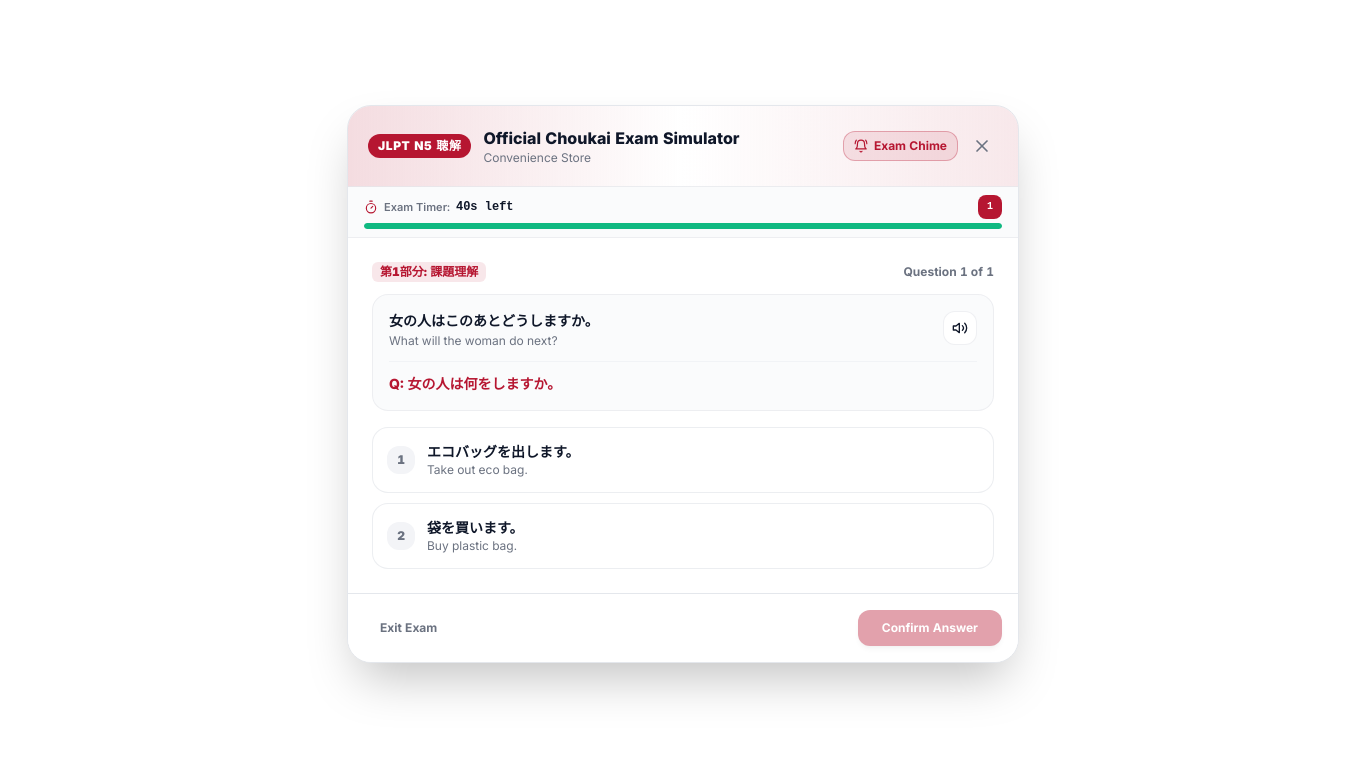
Scenario: Listening Components › ChoukaiExamModal renders questions, selection, and submission review
Expected: the text "JLPT N5 聴解" is shown, left=368, top=134, right=472, bottom=158
Expected: the text "第1部分: 課題理解" is shown, left=372, top=262, right=486, bottom=282
Note: Select option 1
What coordinates should you click on to do the following:
click the text "エコバッグを出します。"
I would click on:
 (503, 452)
Its box is left=427, top=442, right=580, bottom=462.
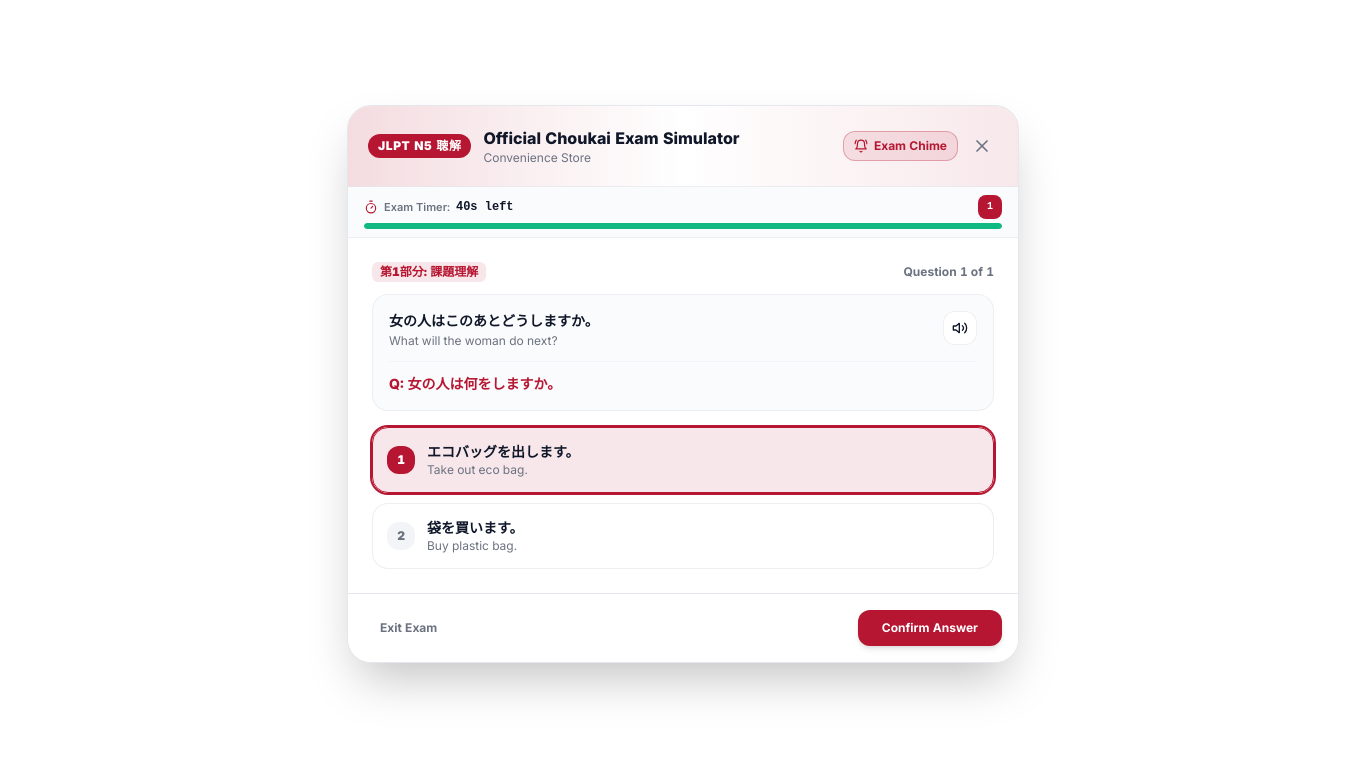
What coordinates should you click on to do the following:
click the button "Confirm Answer"
I would click on:
 (930, 628)
Its box is left=858, top=610, right=1002, bottom=646.
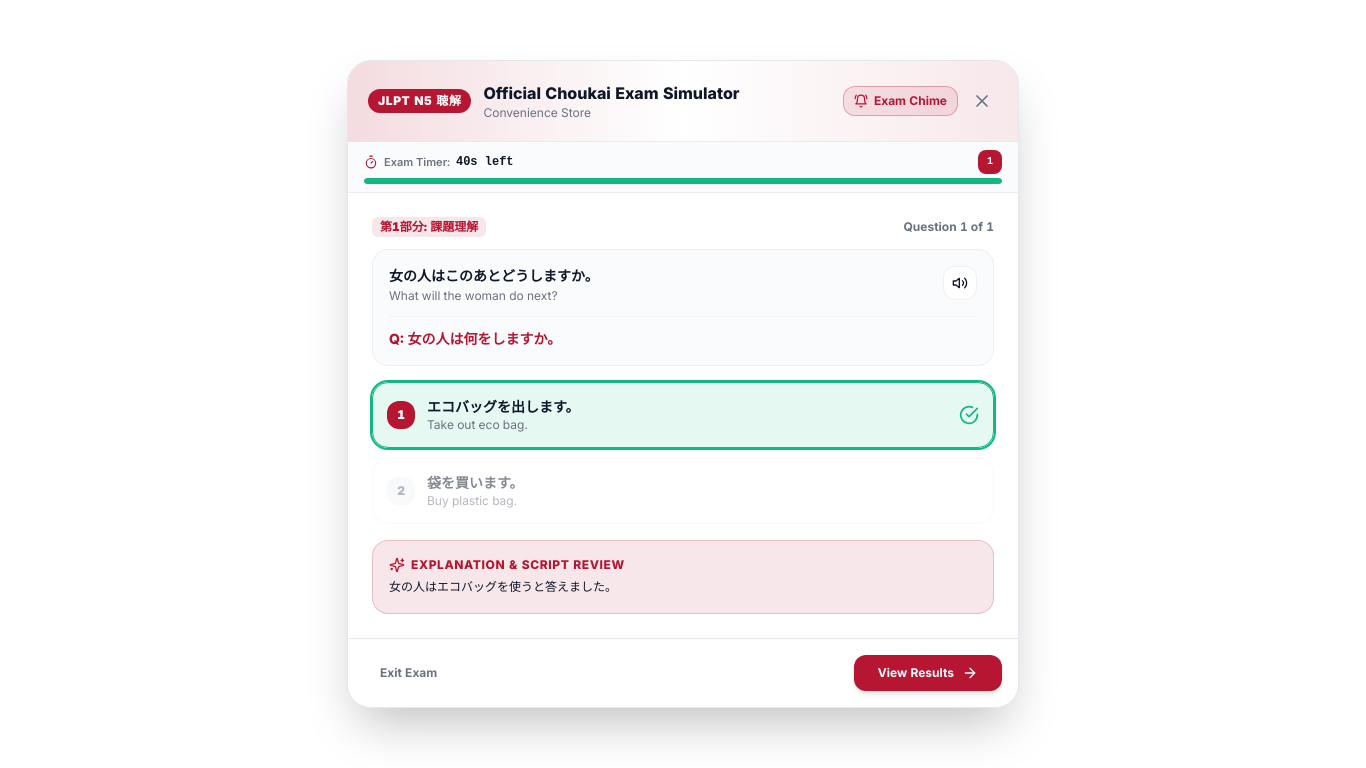
Expected: the heading "Explanation & Script Review" is shown, left=389, top=557, right=625, bottom=573
Expected: the text "女の人はエコバッグを使うと答えました。" is shown, left=389, top=579, right=617, bottom=594
What coordinates should you click on to do the following:
click the button "View Results"
I would click on:
 (928, 673)
Its box is left=854, top=655, right=1002, bottom=691.
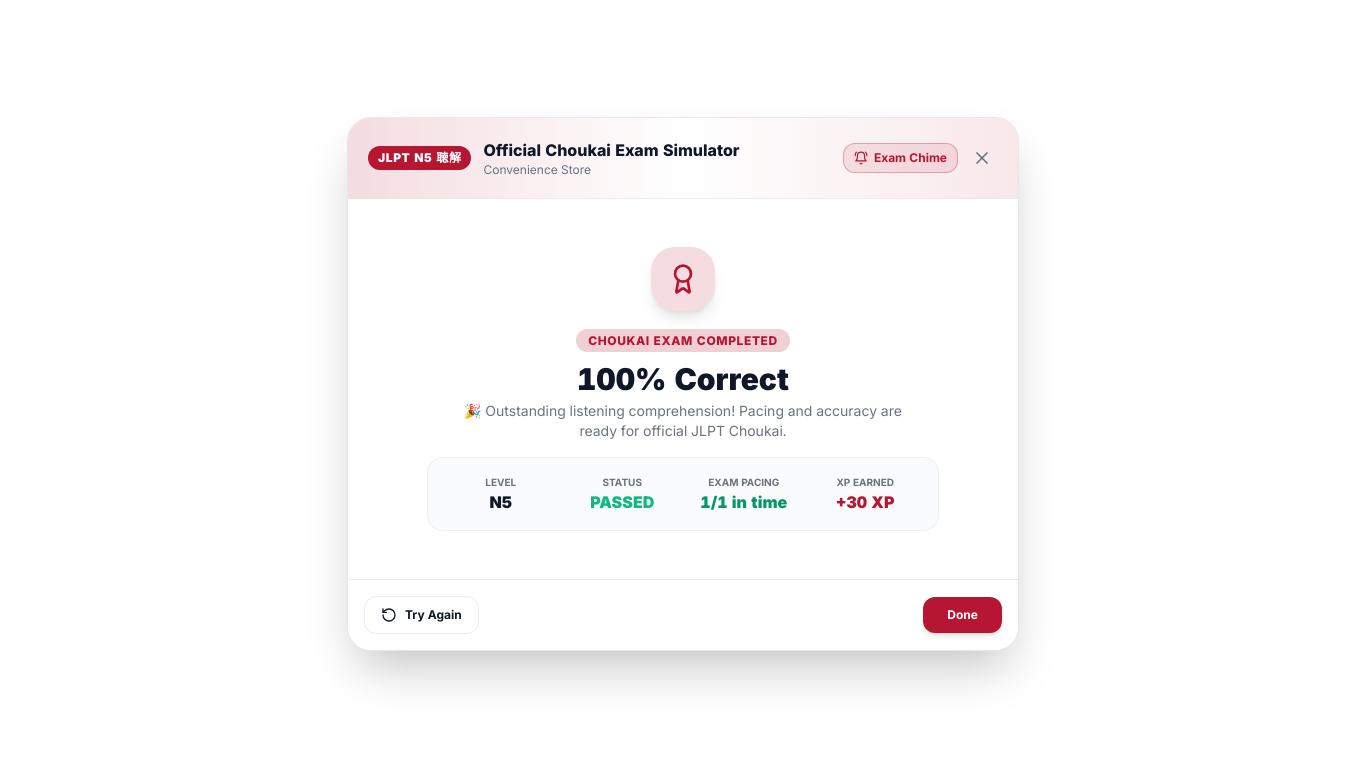
Expected: the heading "100% Correct" is shown, left=577, top=361, right=789, bottom=397
Expected: the text "PASSED" is shown, left=590, top=492, right=654, bottom=512
